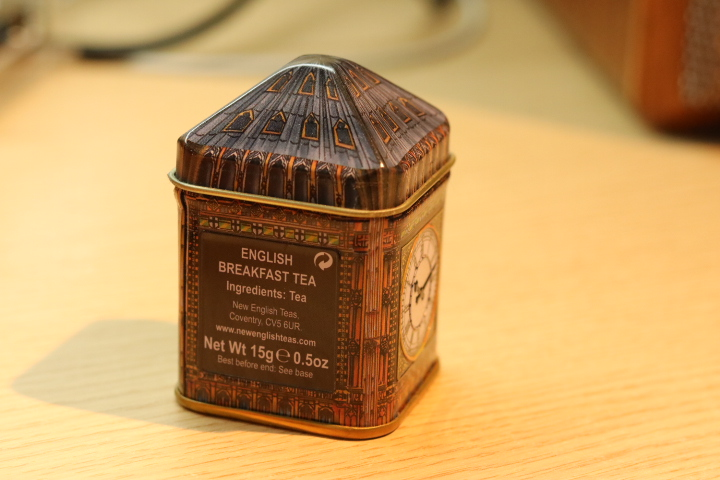Big Ben: (152, 52, 466, 446)
